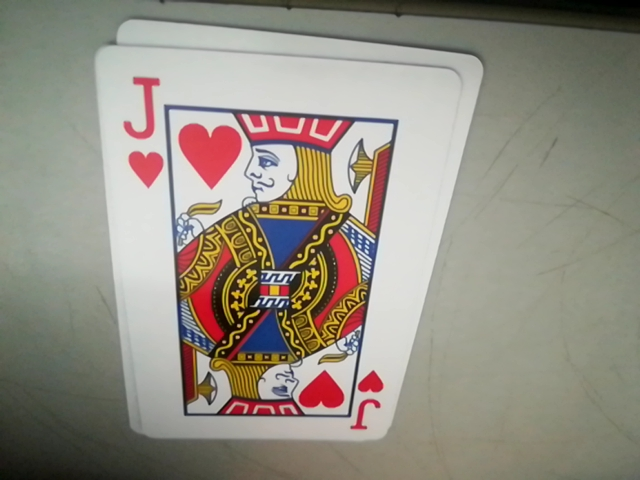hx j: (120, 78, 164, 192), (350, 366, 385, 432)
